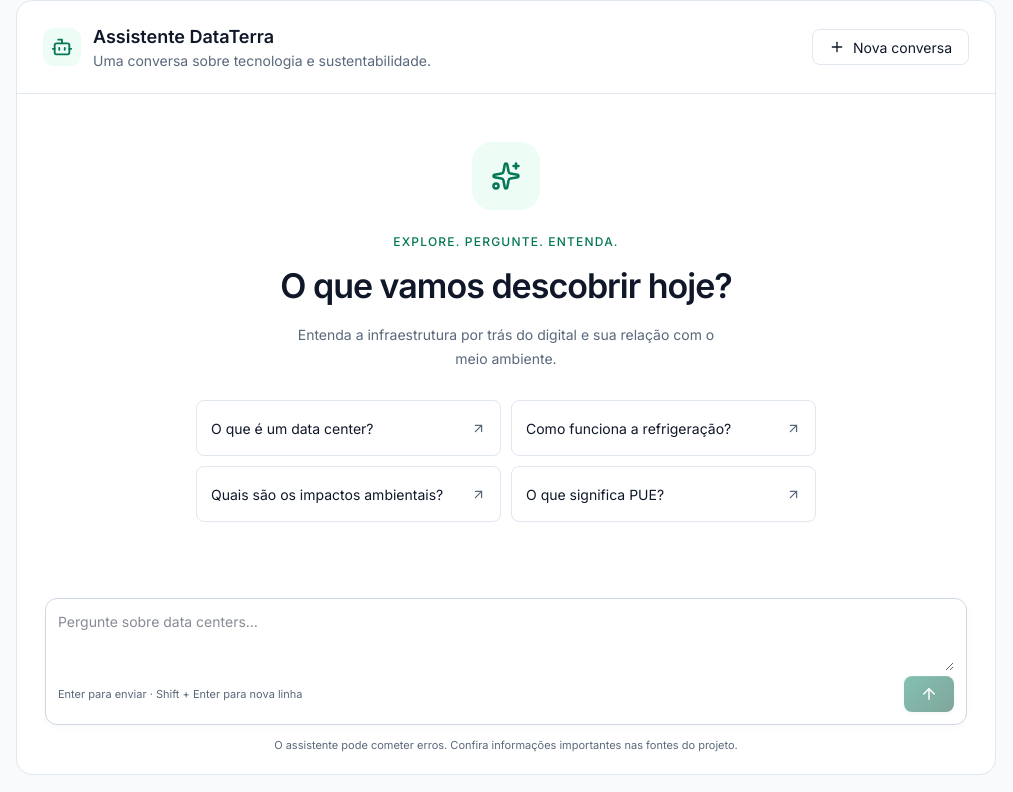
Test: Assistente › retries a failed question without duplicating the user message
Click the button "O que significa PUE?".
click(664, 494)  # box [511,466,816,522]
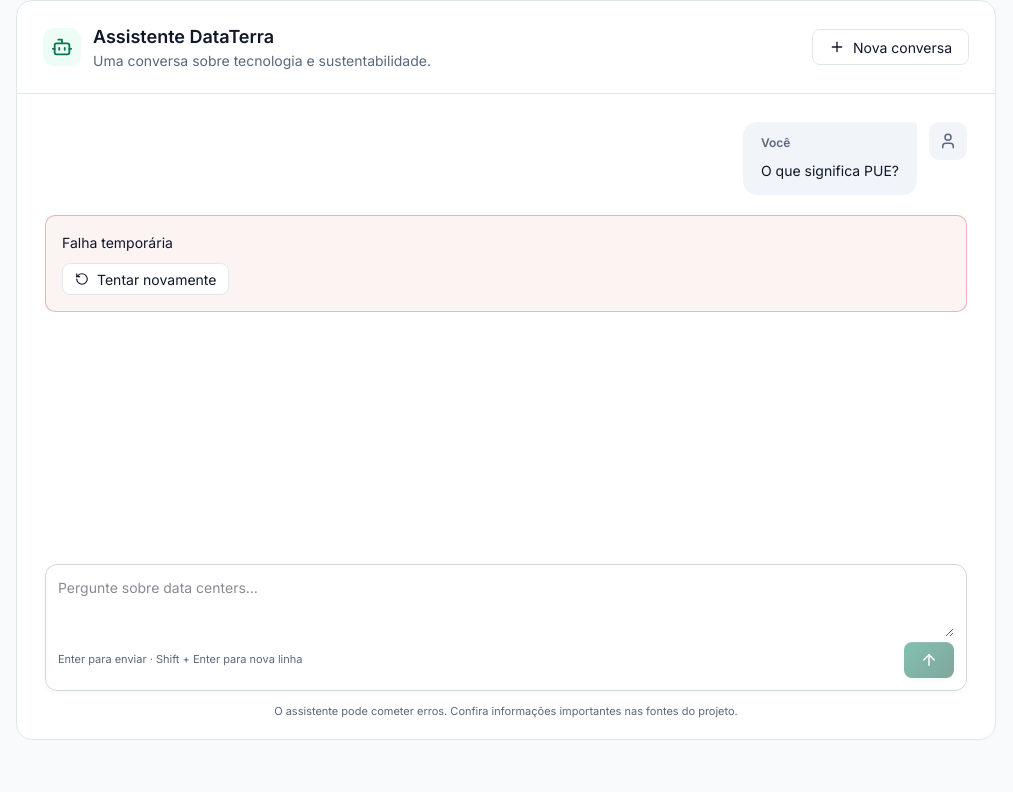
Expected: the message shows "Falha temporária", [62,234,173,251]
Click the button "Tentar novamente".
click(146, 279)  # box [62,263,230,295]
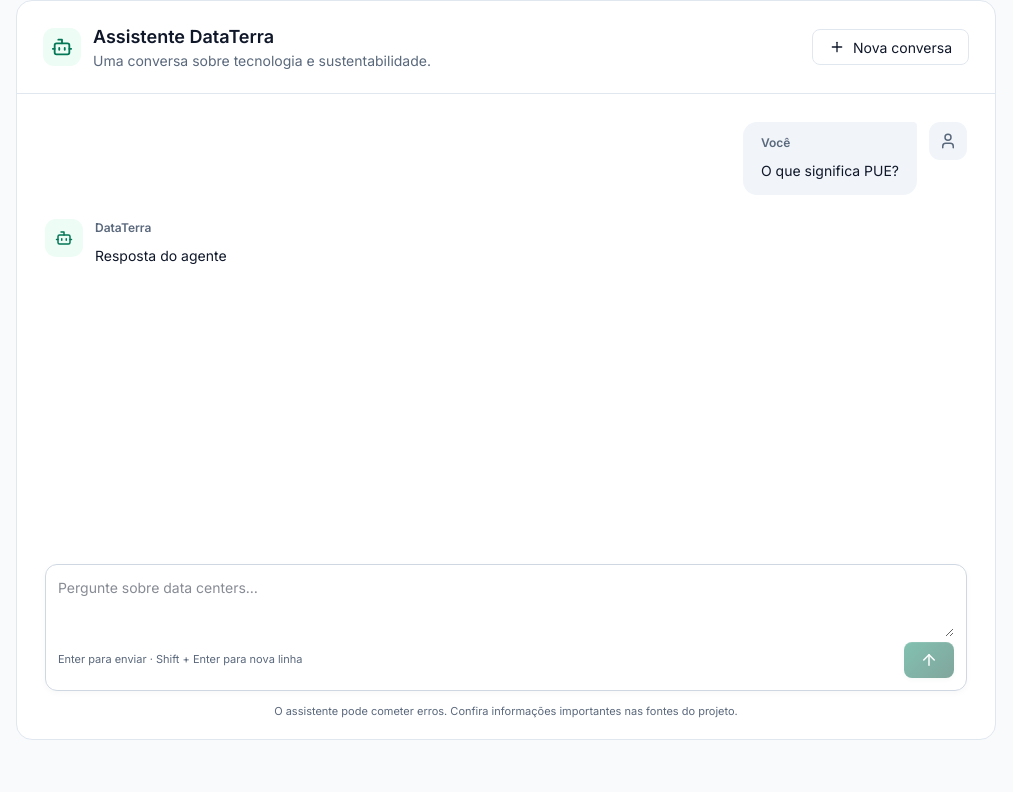
Expected: the text "O que significa PUE?" is shown once, [761,158,899,183]
Expected: the text "Resposta do agente" is shown, [95,243,227,268]
Expected: the message "Falha temporária Tentar novamente" is gone
